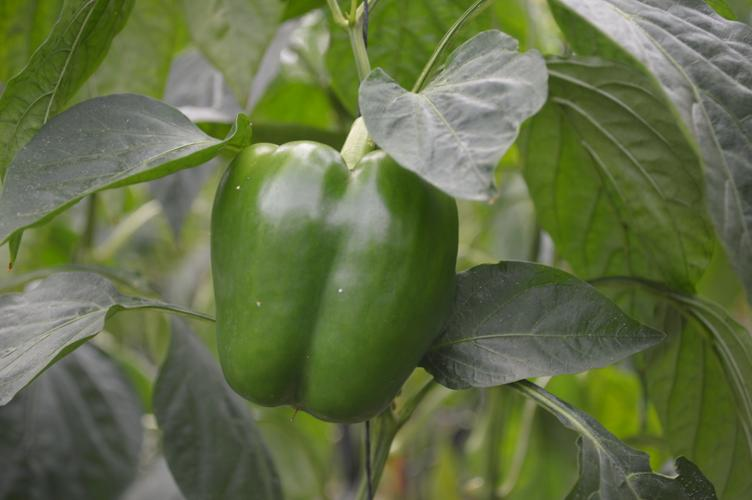BellPepper: (208, 141, 461, 424)
